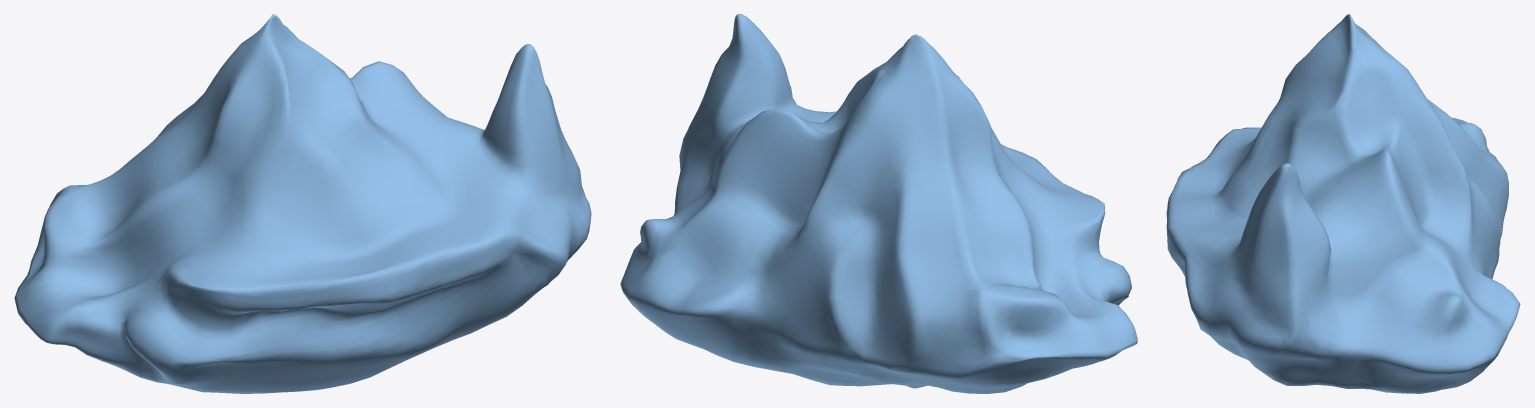
Rendered from Iceburg2.fbx.
The picture shows the model from 3 angles, left to right: view 1: azimuth 30°, elevation 25°; view 2: azimuth 150°, elevation 25°; view 3: azimuth 270°, elevation 25°; orthographic projection. The views are drawn at different scales.
Parts seen in each view (by area): view 1: Retopo_Iceburg2_high; view 2: Retopo_Iceburg2_high; view 3: Retopo_Iceburg2_high.
Boxes of the visible parts, bbox=[...] form: Retopo_Iceburg2_high: bbox=[14, 14, 591, 393]; Retopo_Iceburg2_high: bbox=[620, 14, 1137, 393]; Retopo_Iceburg2_high: bbox=[1166, 14, 1520, 393].
Size of the model in its own units: 330 by 226 by 220.
